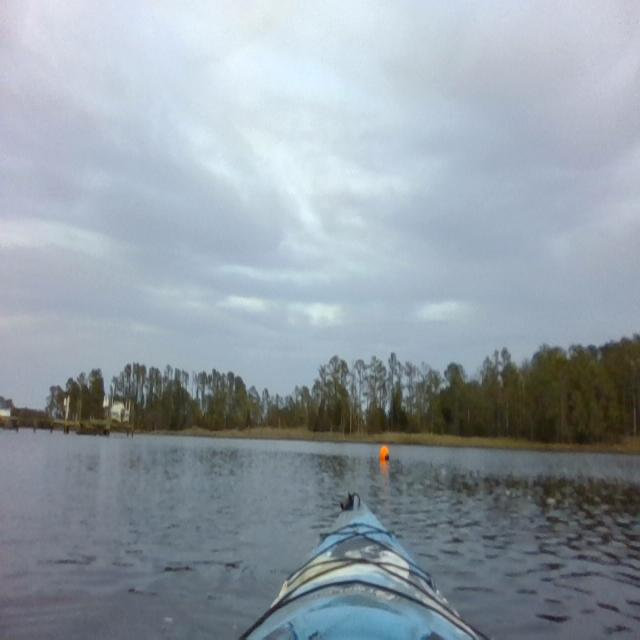Buoy: (378, 444, 391, 463)
